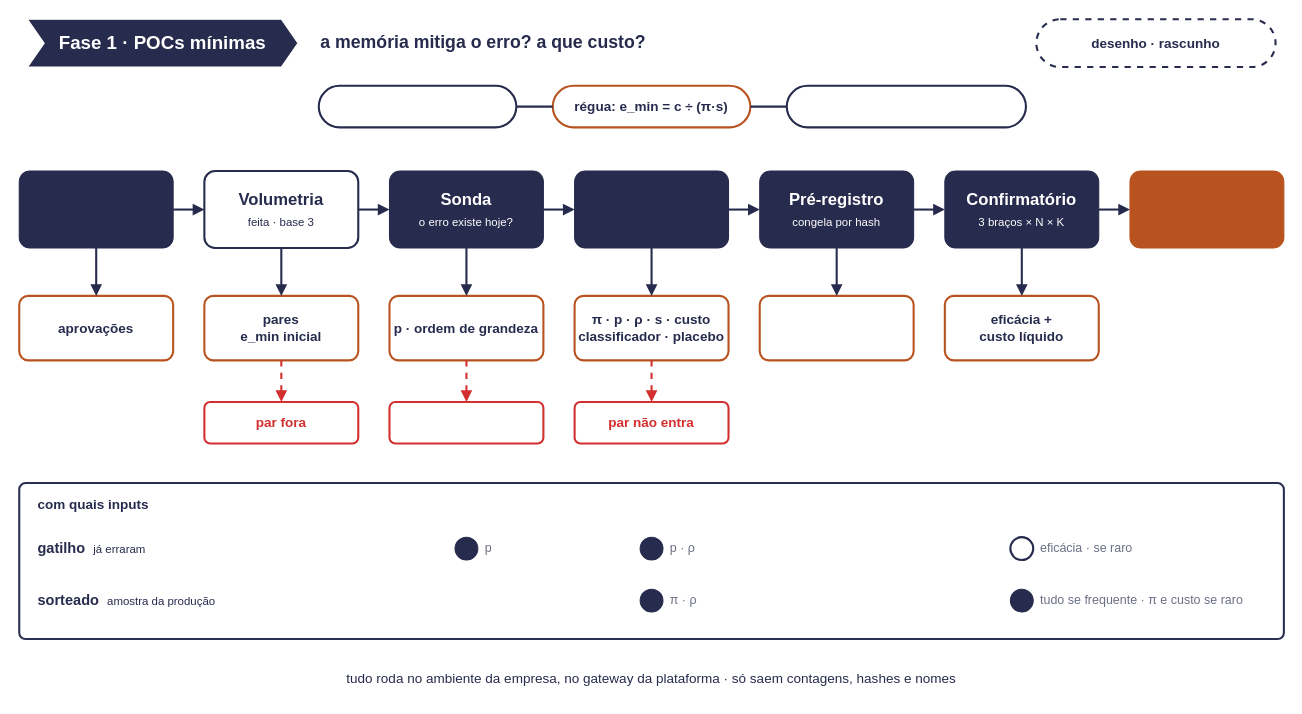
This 1302x714 diagram has some shape labels left out. The shapes that lost their labels are listed below. From the top down, each one's centre as x and y in pixels, then its label:
At point (417, 106): "mitiga? → eficácia".
At point (905, 106): "a que custo? → custo líquido".
At point (95, 209): "Preparação ambiente fechado".
At point (651, 209): "Piloto calibra o instrumento".
At point (1206, 209): "1 de 7 desfechos por par".
At point (836, 327): "n · N · K · e_min réguas · textos".
At point (466, 422): "não testável hoje".
